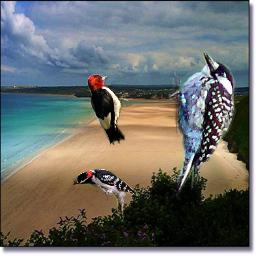Woodpecker: (153, 45, 245, 204), (73, 168, 140, 222), (87, 74, 130, 146)
